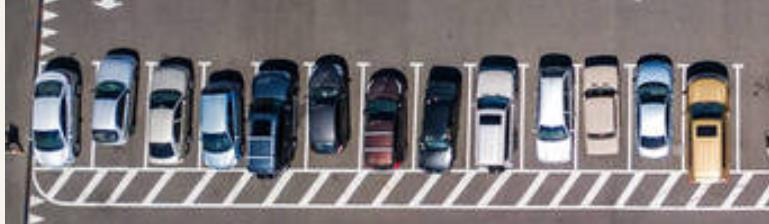car: (679, 73, 736, 188), (244, 69, 297, 180), (470, 66, 523, 176), (357, 69, 411, 171), (628, 57, 681, 159), (144, 60, 194, 166), (32, 65, 80, 172), (85, 53, 138, 148), (577, 62, 626, 159), (304, 61, 352, 156), (414, 79, 461, 174), (531, 62, 574, 165), (196, 80, 244, 171)
